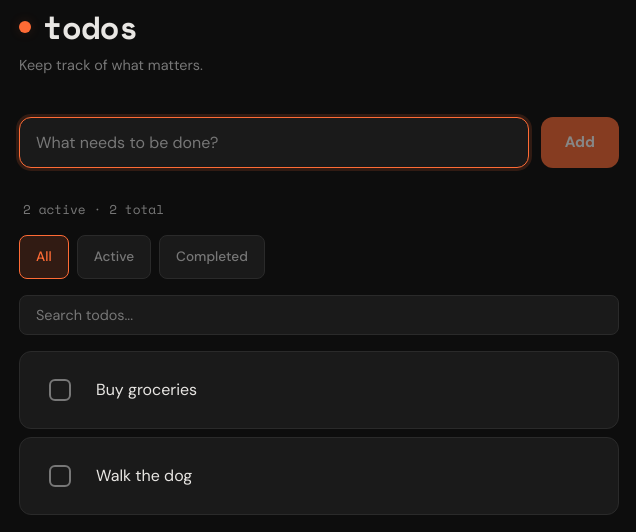
Test: App › filters todos by search text
Expected: the text "Buy groceries" is shown, [96,379,197,400]
Type "grocer" into the search field labelled "Search todos" at (319, 315), box [19,295,619,335]
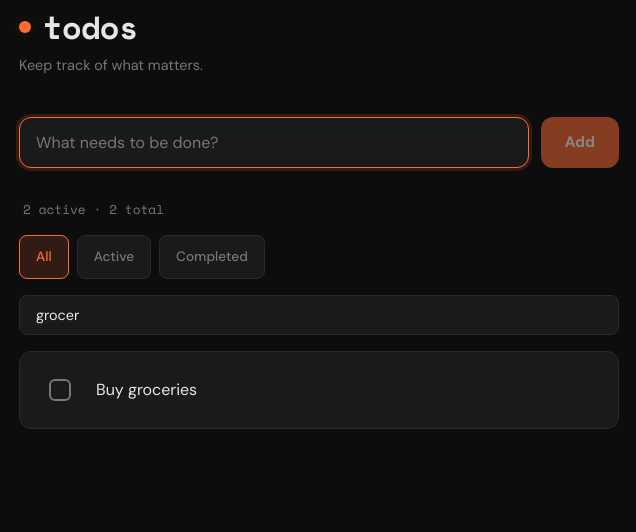
Expected: the text "Buy groceries" is shown, [96,379,197,400]
Now the text "Walk the dog" is gone
